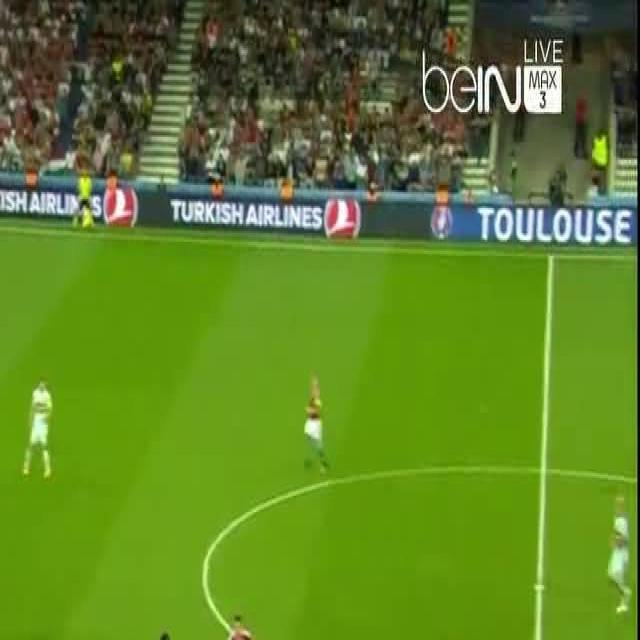player-white: (21, 378, 53, 479), (608, 496, 632, 615), (302, 376, 328, 476), (76, 163, 94, 229), (224, 611, 258, 640), (133, 633, 180, 640)
